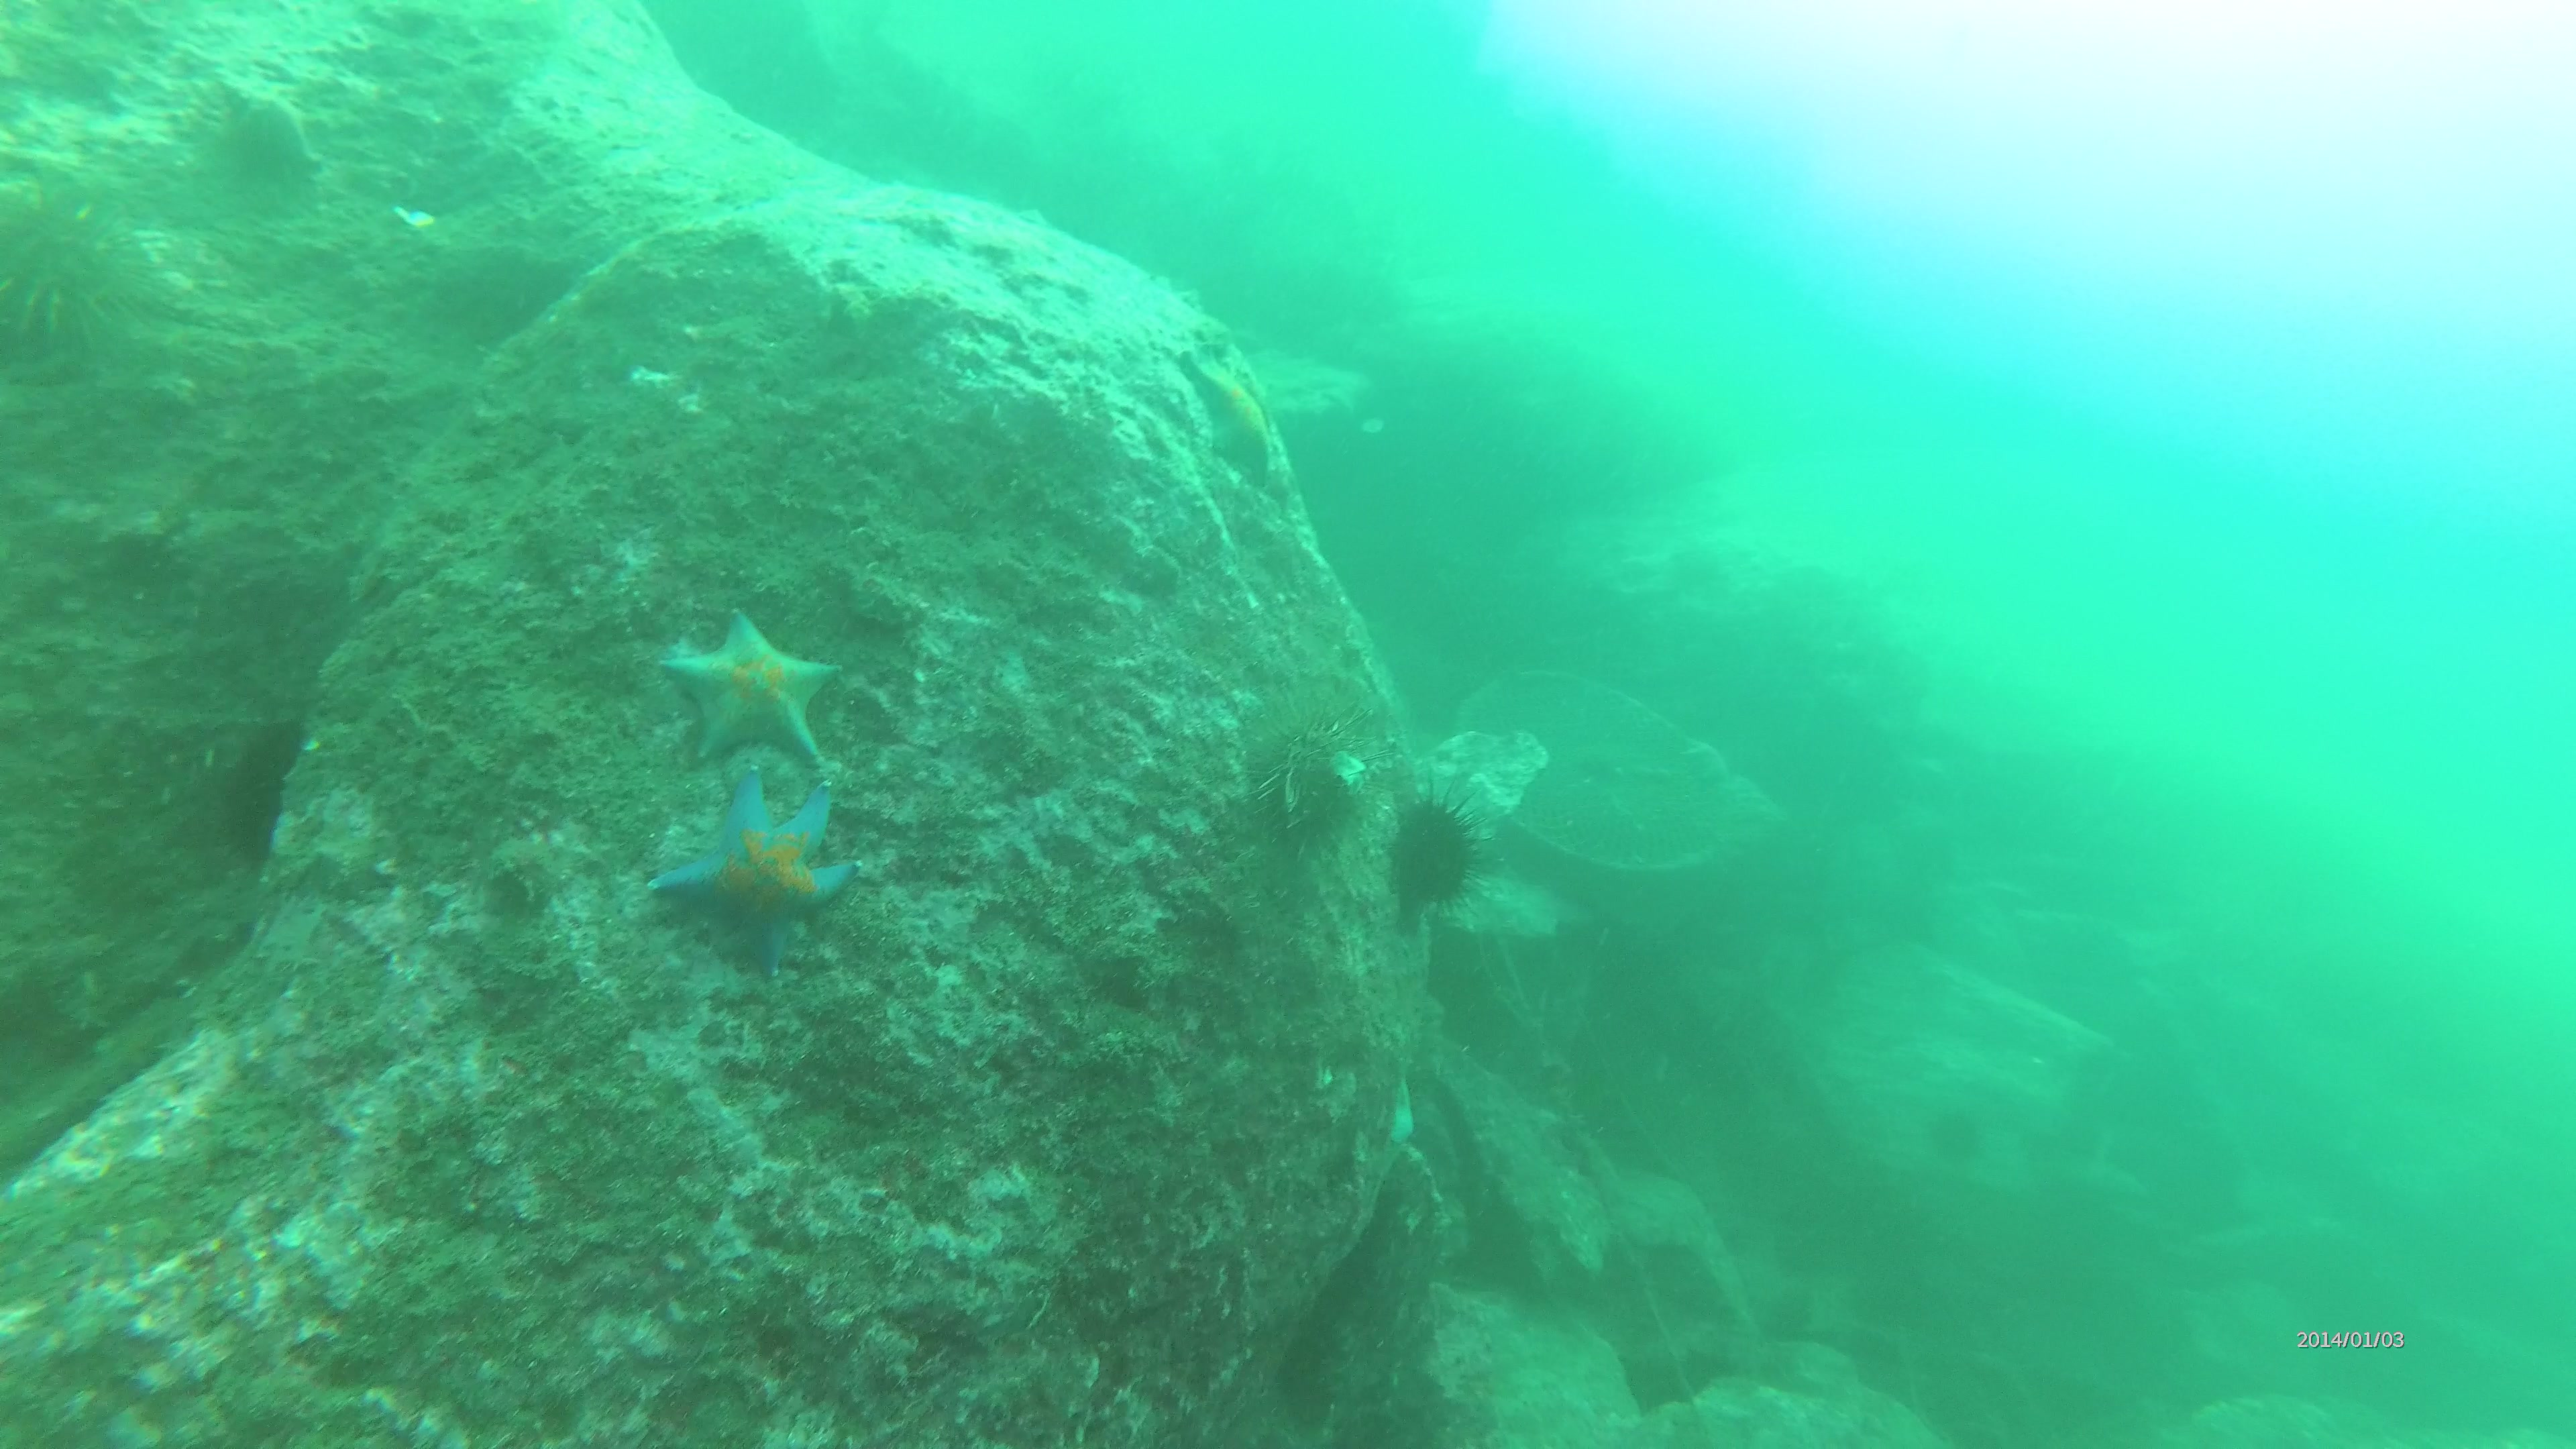echinus: (0, 186, 138, 350), (1247, 694, 1376, 844), (218, 706, 301, 865), (1387, 778, 1486, 911)
starfish: (648, 789, 847, 975), (651, 609, 828, 771), (1182, 341, 1284, 487), (221, 74, 326, 182)
